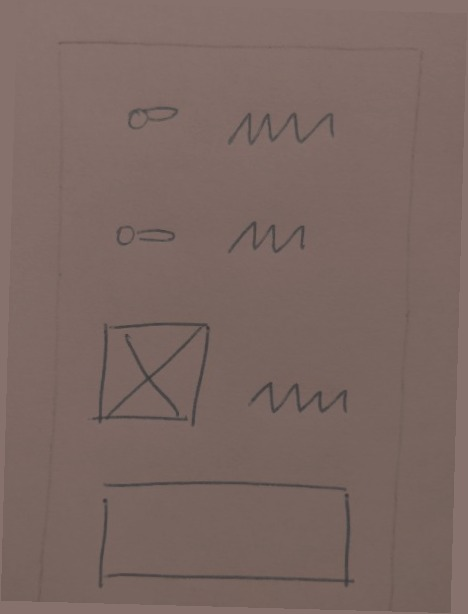image: (83, 313, 227, 435)
switch: (120, 94, 193, 138), (105, 217, 186, 254)
text: (242, 366, 359, 428), (216, 103, 349, 151), (215, 216, 321, 264)
text_input: (80, 466, 364, 598)
